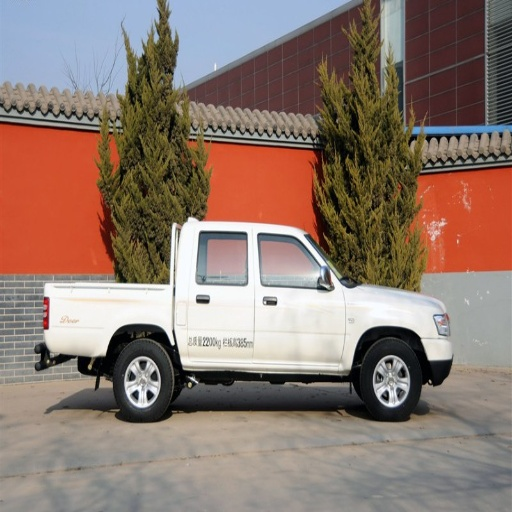front_right_door: (254, 231, 345, 365)
trunk: (58, 281, 181, 362)
